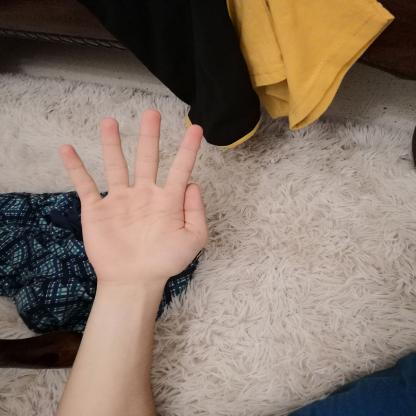SHEEN: (42, 104, 222, 289)
